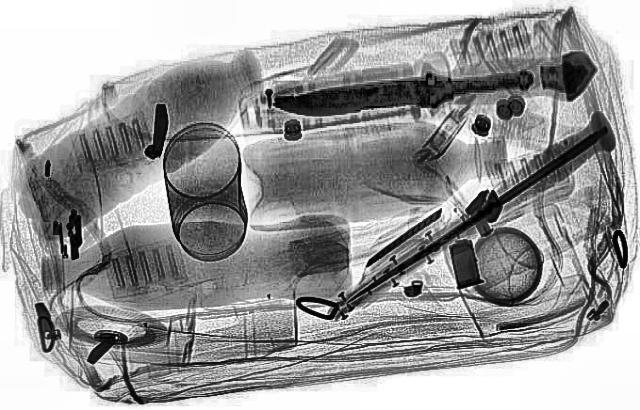Knife: (330, 117, 630, 312), (254, 59, 540, 125)
